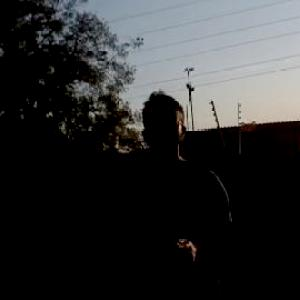follow: (116, 87, 245, 299)
